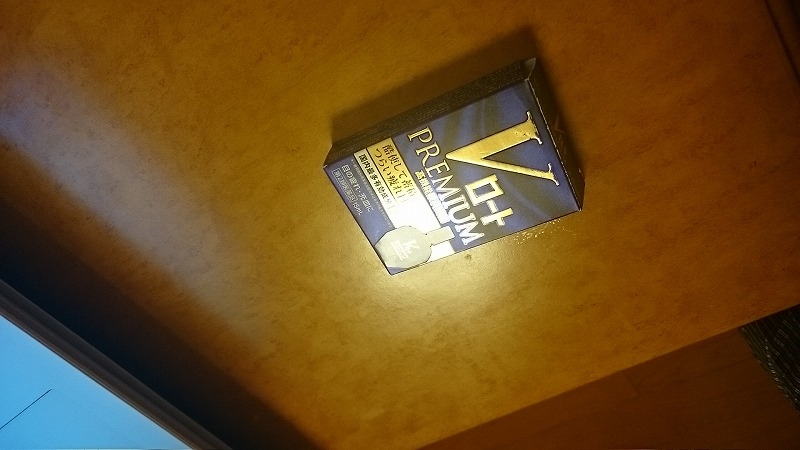D: (295, 49, 618, 282)
